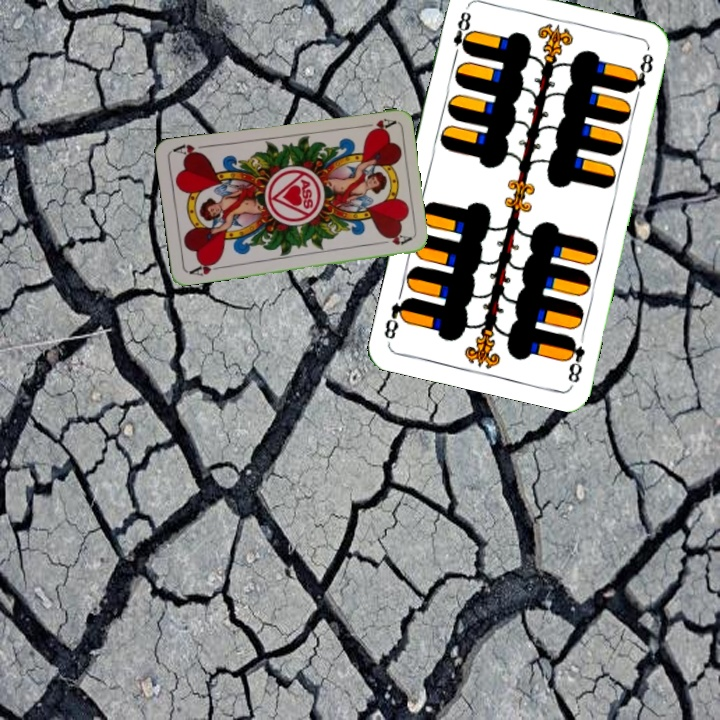E8: (562, 328, 588, 385), (449, 4, 474, 62)
HA: (185, 257, 226, 278), (356, 114, 397, 135)
